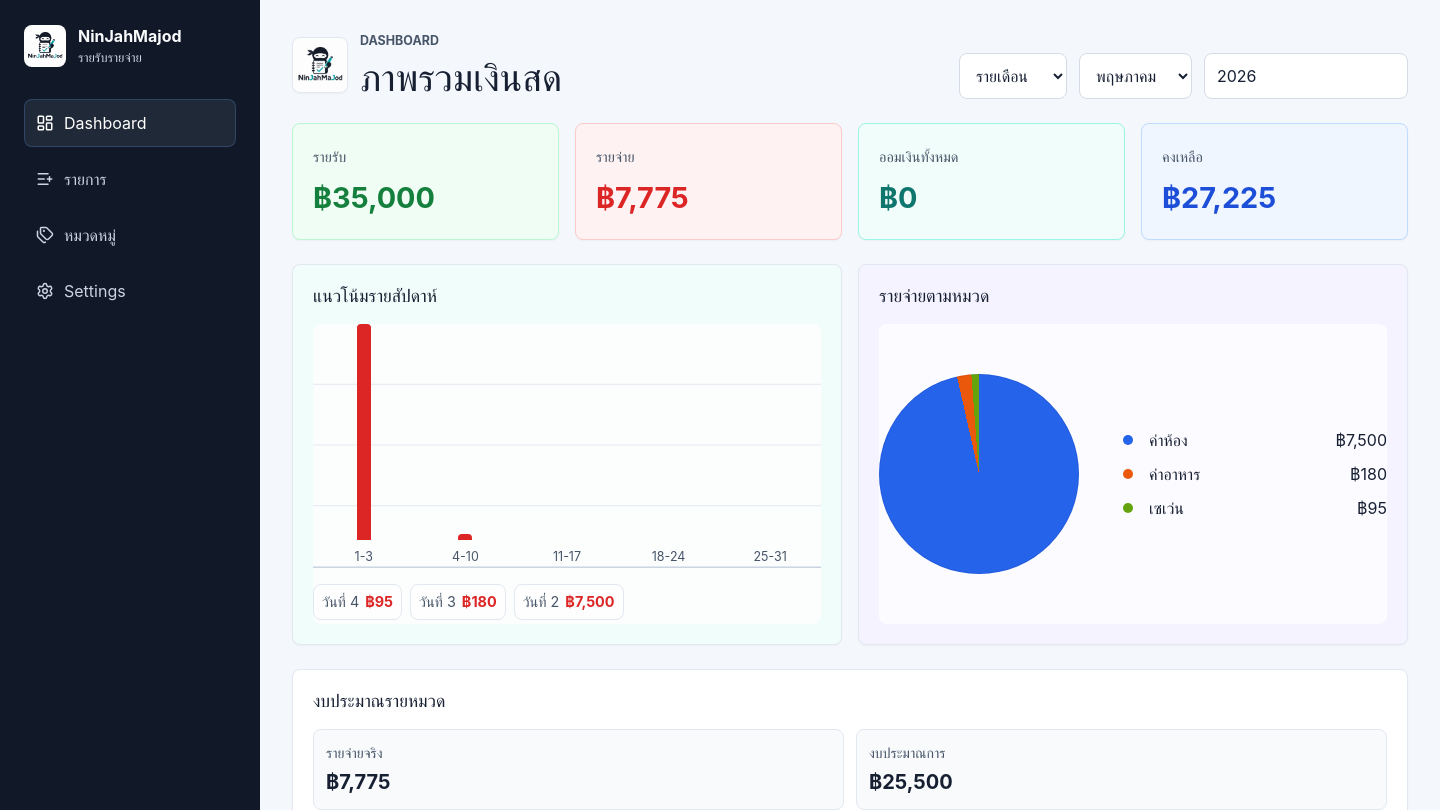
Test case: App smoke flow › does not delete categories that are still used by transactions
Click the button "หมวดหมู่". click: (130, 235)
box: [24,211,236,259]
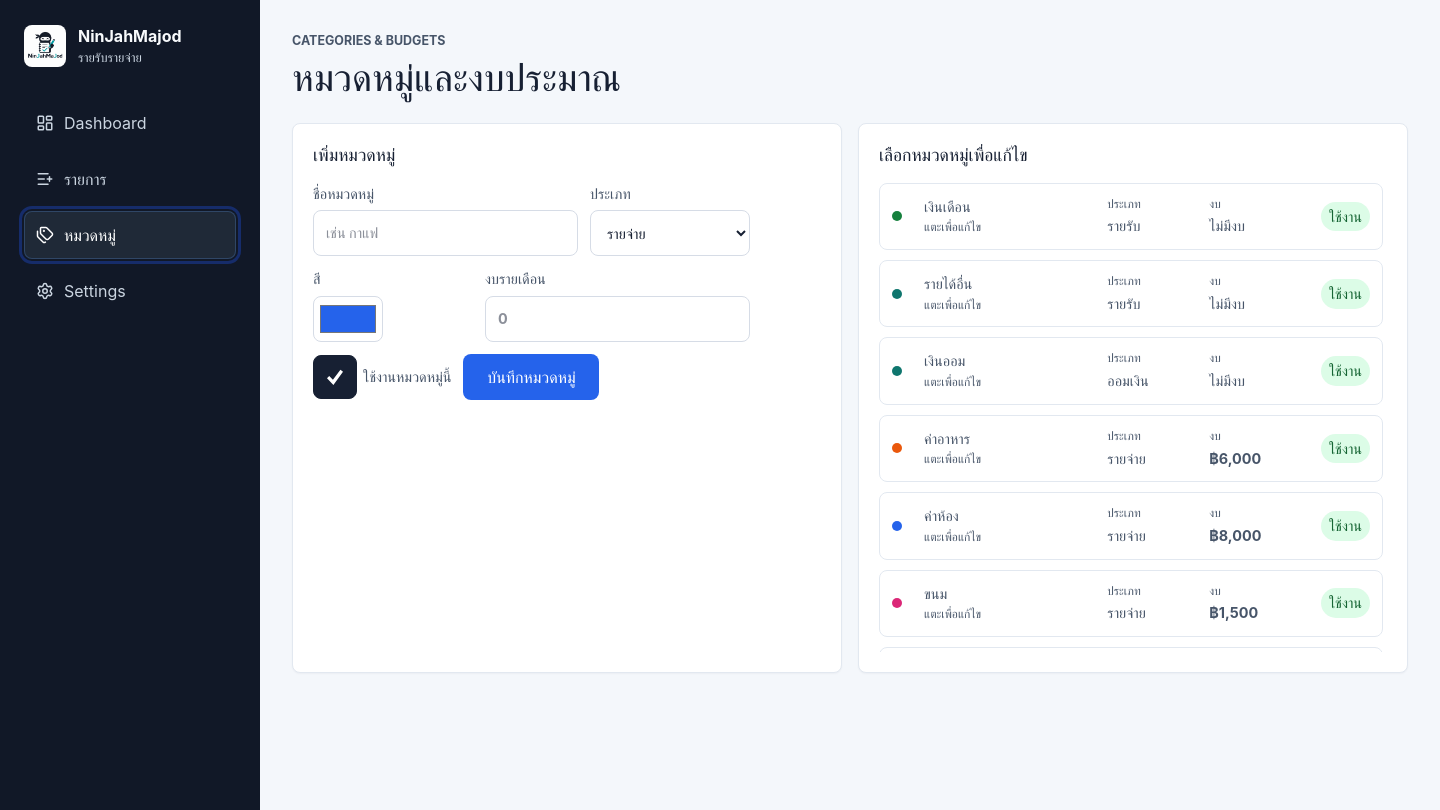
Click the button with aria-label "แก้ไขหมวดหมู่ ค่าอาหาร". click: (1131, 448)
box: [879,415,1383,482]
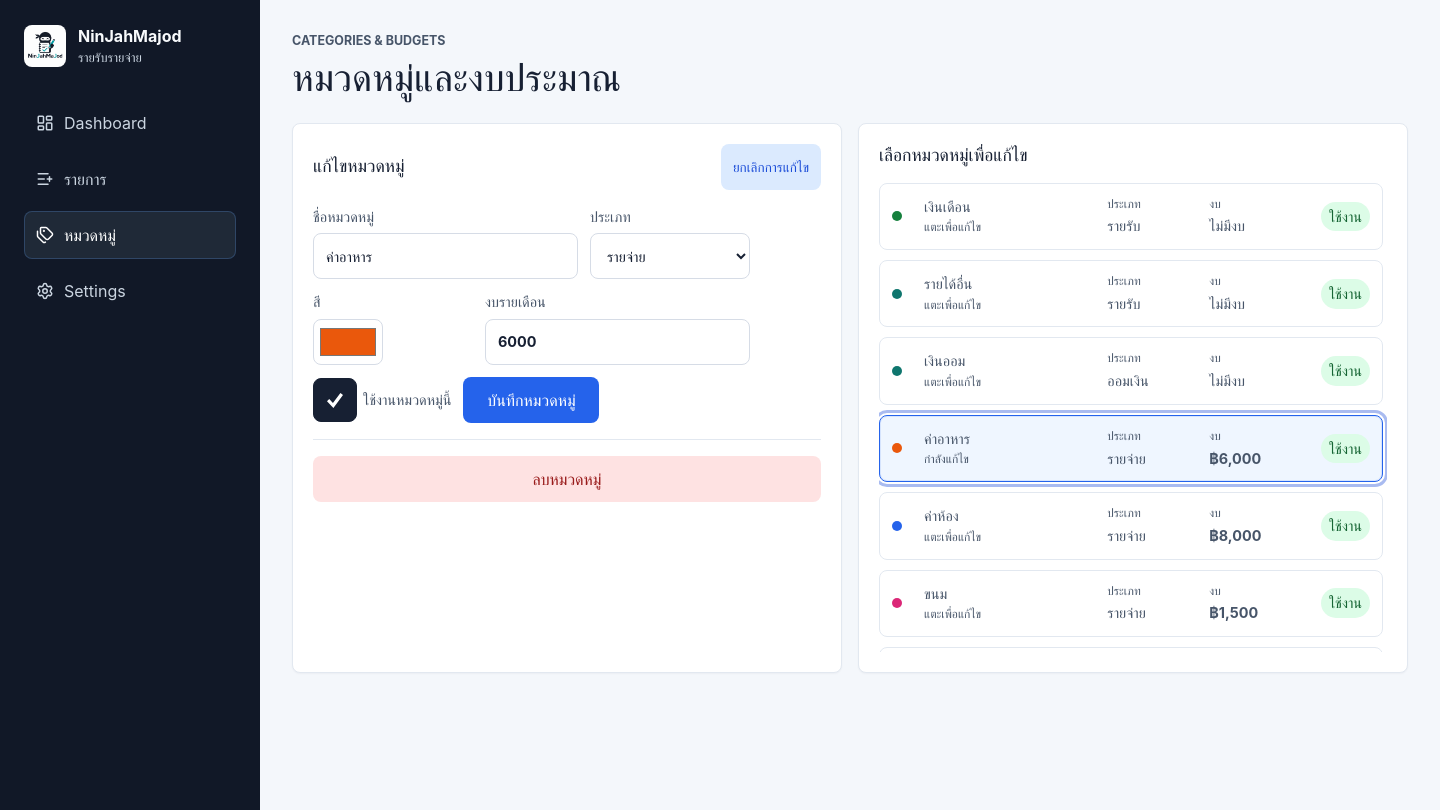
Click the button "ลบหมวดหมู่". click: (567, 479)
box: [313,456,821,502]
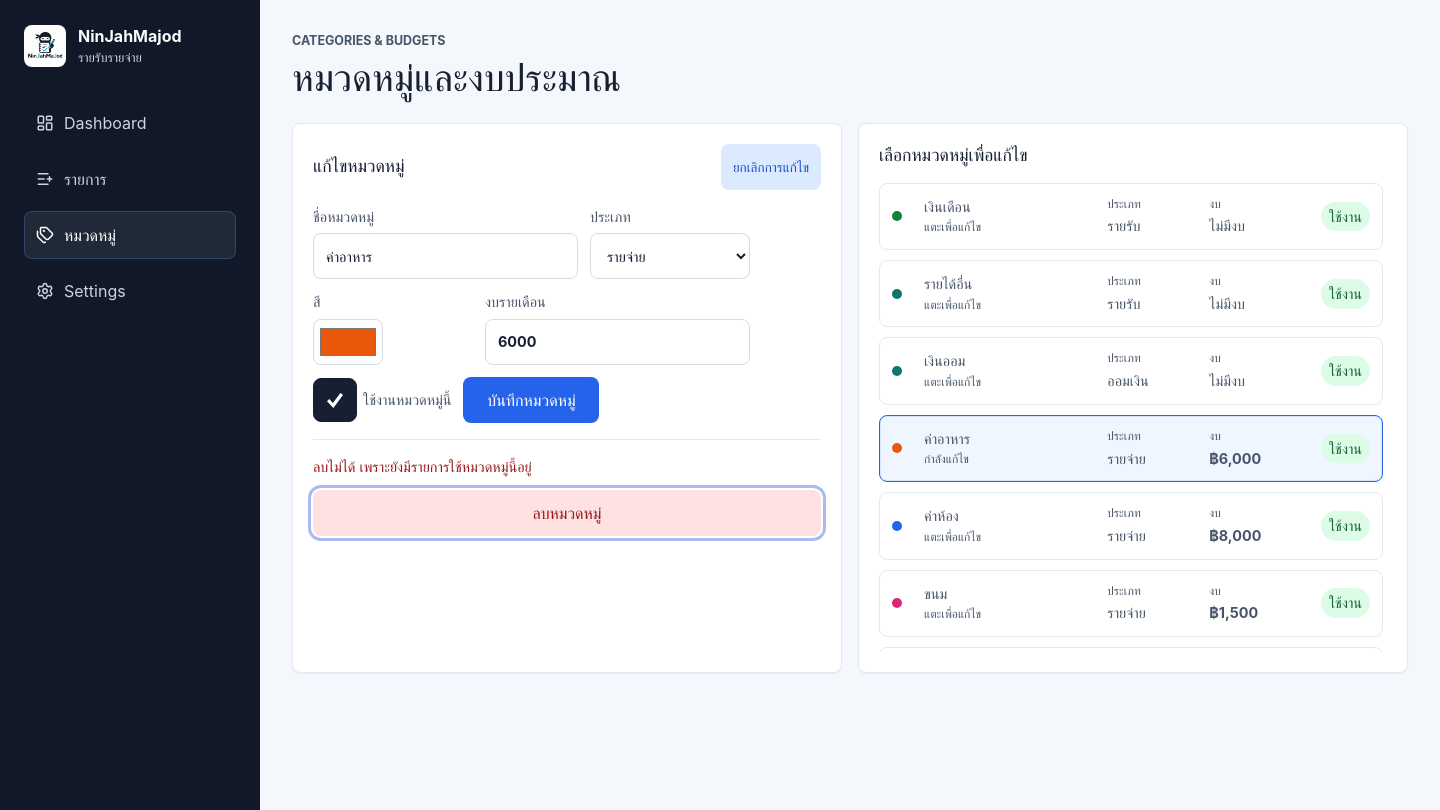
Expected: the button with aria-label "แก้ไขหมวดหมู่ ค่าอาหาร" is shown, [879,415,1383,482]
Expected: the message reads "ลบไม่ได้ เพราะยังมีรายการใช้หมวดหมู่นี้อยู่", [313,458,532,475]
